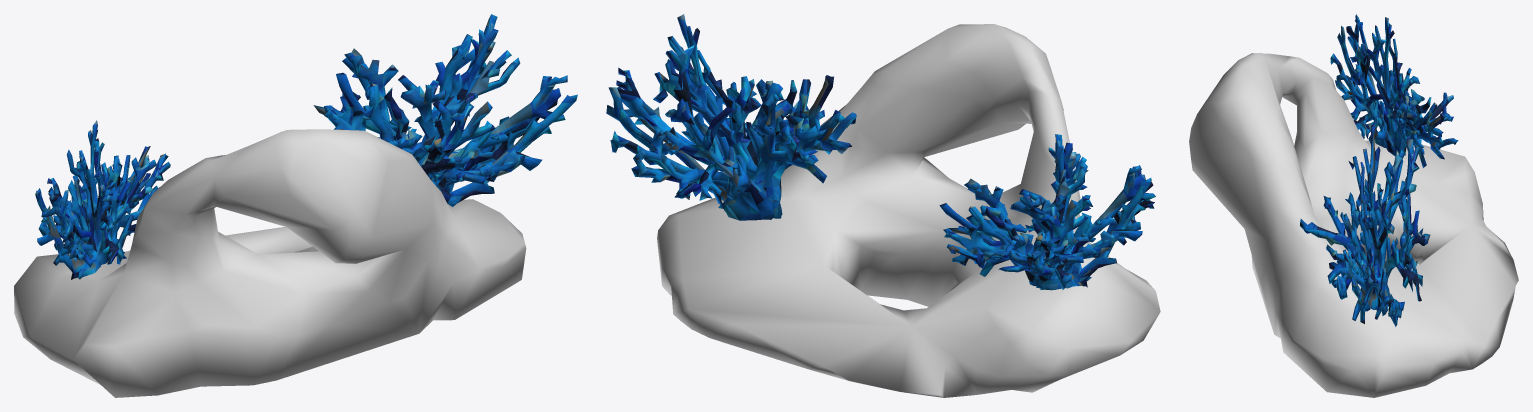
The picture shows the model from 3 angles, left to right: view 1: azimuth 30°, elevation 25°; view 2: azimuth 150°, elevation 25°; view 3: azimuth 270°, elevation 25°; orthographic projection. The views are drawn at different scales.
Parts seen in each view (by area): view 1: MSH_Base_03_Main, MSH_Base_03_Coral; view 2: MSH_Base_03_Main, MSH_Base_03_Coral; view 3: MSH_Base_03_Main, MSH_Base_03_Coral.
Boxes of the visible parts, box(x1,y1,x2,y2) form: MSH_Base_03_Main: box(14, 129, 526, 397); MSH_Base_03_Coral: box(35, 14, 577, 279); MSH_Base_03_Main: box(657, 24, 1160, 397); MSH_Base_03_Coral: box(606, 14, 1155, 290); MSH_Base_03_Main: box(1189, 53, 1518, 397); MSH_Base_03_Coral: box(1300, 14, 1458, 326).
Size of the model in its own units: 2659 by 1172 by 1577.
